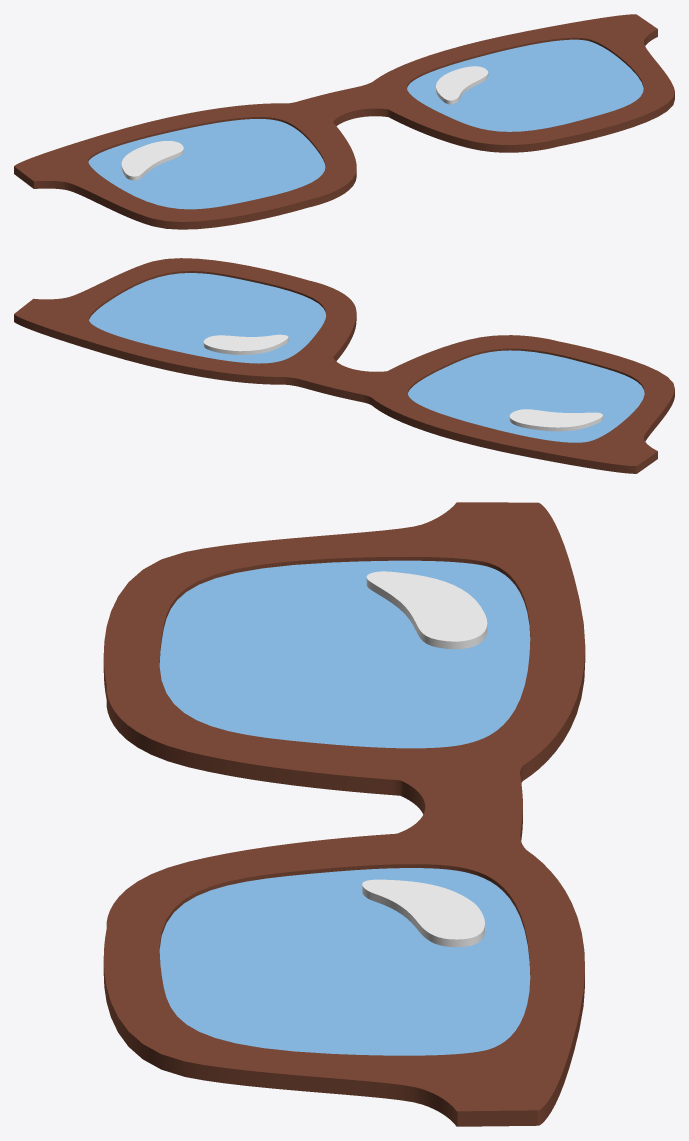
Rendered from emoji_u1f453.glb.
3 renders of one model, top to bottom at view 1: azimuth 30°, elevation 25°; view 2: azimuth 150°, elevation 25°; view 3: azimuth 270°, elevation 25°, orthographic. The views are drawn at different scales.
Parts seen in each view (by area): view 1: emoji_u1f453; view 2: emoji_u1f453; view 3: emoji_u1f453.
Part boxes in pixels (x1,y1,x2,y2): emoji_u1f453: (14,14,674,229); emoji_u1f453: (14,258,674,473); emoji_u1f453: (103,502,585,1126).
Size of the model in its own units: 0.0338 by 0.0006 by 0.0113.
